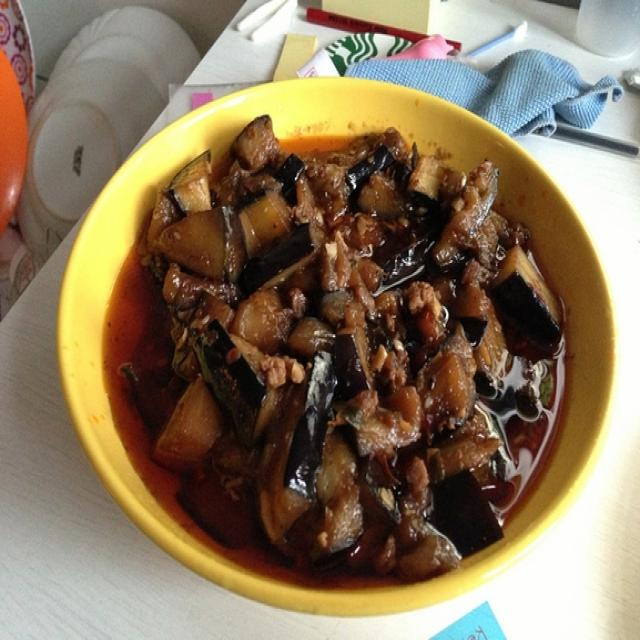鸡蛋料理: (85, 87, 598, 571)
